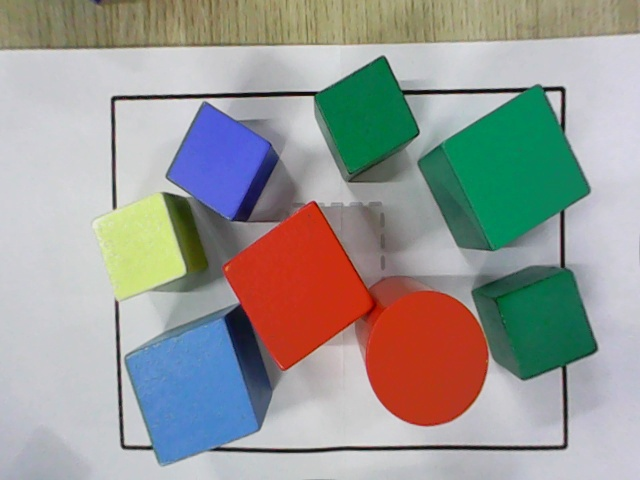upside of big cube: (221, 201, 376, 371), (439, 84, 591, 252), (123, 316, 260, 468)
upside of cylinder: (365, 290, 488, 427)
upside of small cube: (165, 102, 272, 222), (315, 54, 420, 176), (494, 272, 598, 381), (90, 191, 188, 304)
